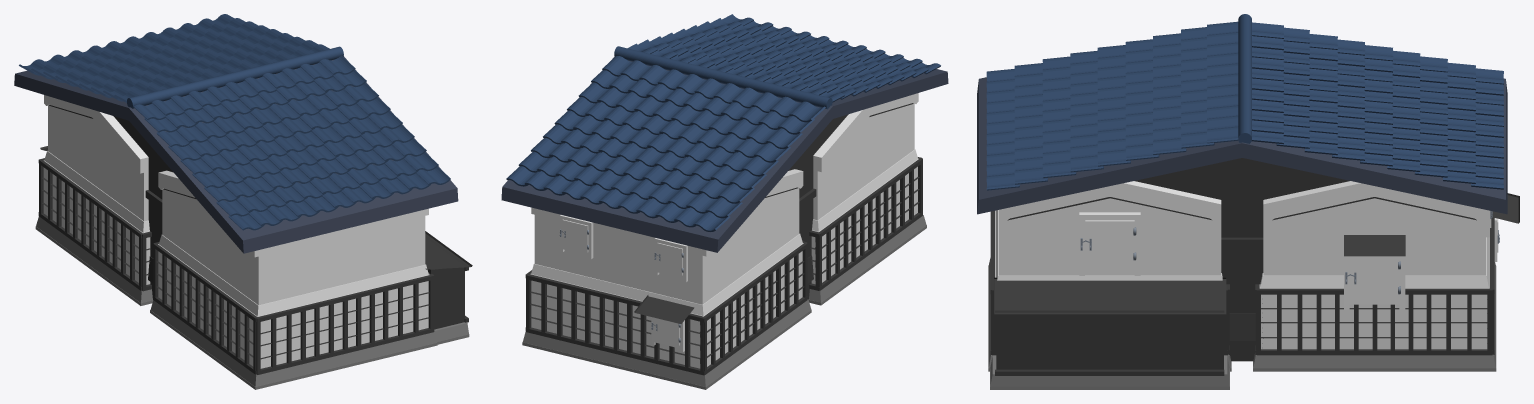
Rendered from hutakokura.glb.
The picture shows the model from 3 angles, left to right: view 1: azimuth 30°, elevation 25°; view 2: azimuth 150°, elevation 25°; view 3: azimuth 270°, elevation 25°; orthographic projection. The views are drawn at different scales.
Visible parts, largest first — view 1: 円柱.003, 立方体.013, 立方体.026, 立方体.018, 立方体.016, 立方体.017, 立方体.003; view 2: 円柱.003, 立方体.013, 立方体.026, 立方体.018, 立方体.003, 立方体.017, 立方体.016; view 3: 円柱.003, 立方体.026, 立方体.013, 立方体.018, 立方体.003, 立方体.017.
Boxes of the visible parts, x1=… form: 円柱.003: x1=19, y1=14, x2=450, y2=230; 立方体.013: x1=44, y1=95, x2=428, y2=316; 立方体.026: x1=38, y1=105, x2=472, y2=374; 立方体.018: x1=14, y1=56, x2=458, y2=253; 立方体.016: x1=158, y1=244, x2=429, y2=368; 立方体.017: x1=35, y1=216, x2=469, y2=389; 立方体.003: x1=43, y1=160, x2=150, y2=284; 円柱.003: x1=506, y1=14, x2=940, y2=231; 立方体.013: x1=531, y1=93, x2=918, y2=352; 立方体.026: x1=525, y1=103, x2=922, y2=375; 立方体.018: x1=501, y1=57, x2=948, y2=252; 立方体.003: x1=530, y1=243, x2=803, y2=368; 立方体.017: x1=522, y1=215, x2=926, y2=389; 立方体.016: x1=811, y1=158, x2=918, y2=284; 円柱.003: x1=986, y1=14, x2=1503, y2=190; 立方体.026: x1=990, y1=158, x2=1519, y2=375; 立方体.013: x1=995, y1=181, x2=1498, y2=309; 立方体.018: x1=977, y1=77, x2=1507, y2=214; 立方体.003: x1=1259, y1=237, x2=1489, y2=349; 立方体.017: x1=988, y1=258, x2=1496, y2=389.
Size of the model in its own units: 10.24 by 8.84 by 17.62.
Materials: 6 (6 with a texture image).
